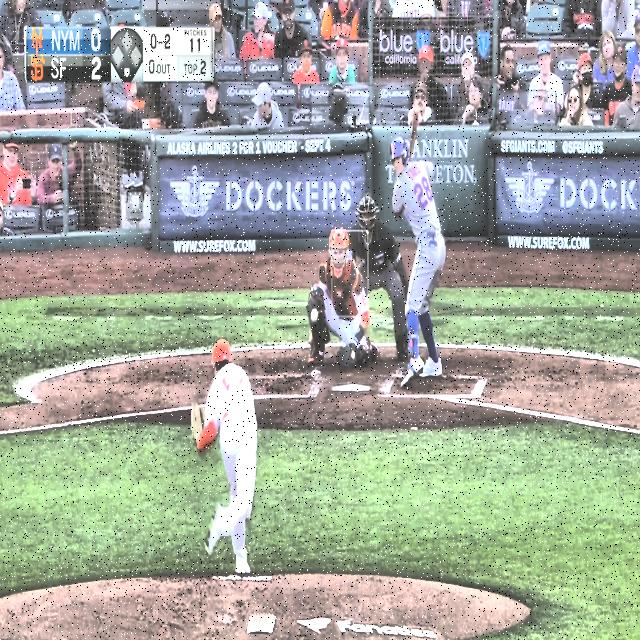baseball: (310, 307, 318, 325)
